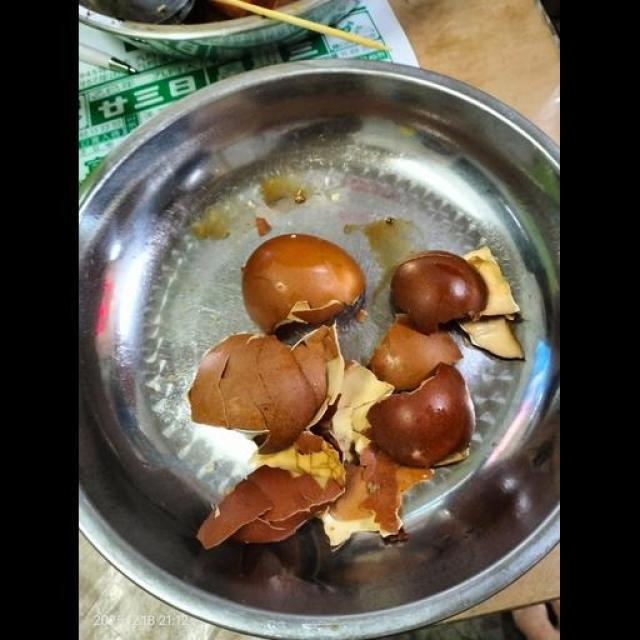organic: (184, 148, 539, 613)
